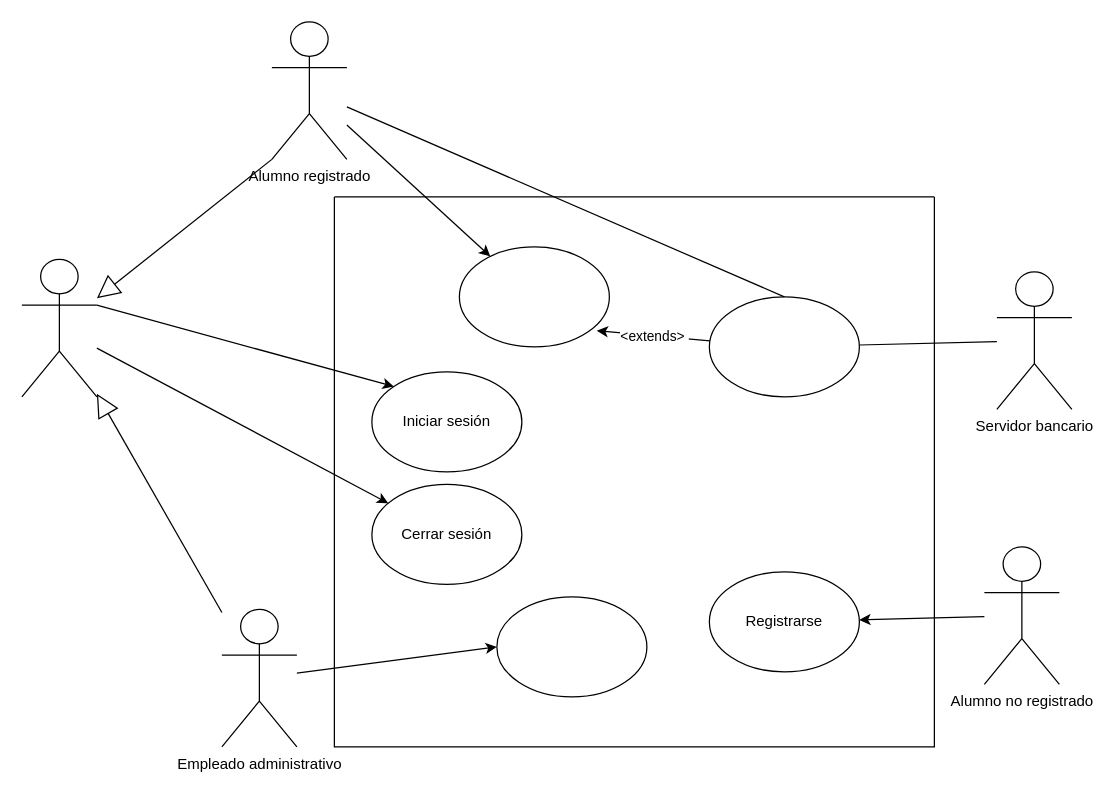
The diagram is 1115 pixels wide and 795 high, and some of its shapes have lost their labels. The centre of each missing label's shape, as x and y in pixels:
Cargar carrera: pixel 571 646
Inscribirse a carrera: pixel 533 296
Pagar con tarjeta: pixel 783 346
Usuario: pixel 59 327
